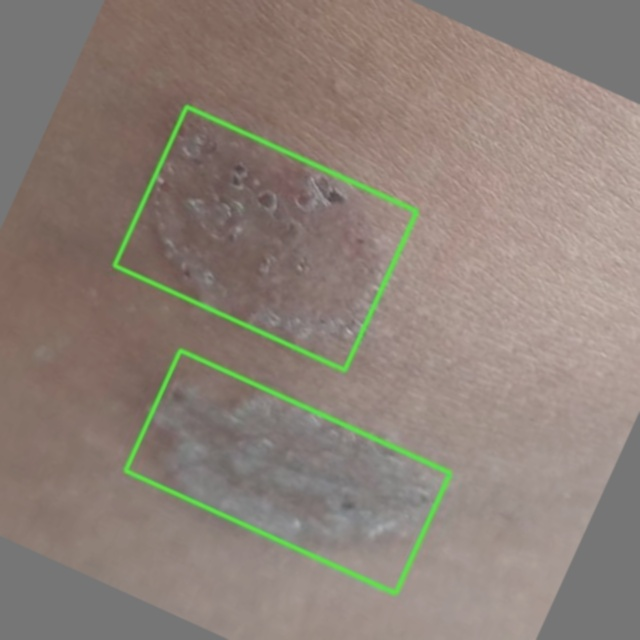Tinea Corporis: (114, 106, 417, 370), (125, 350, 450, 593)
